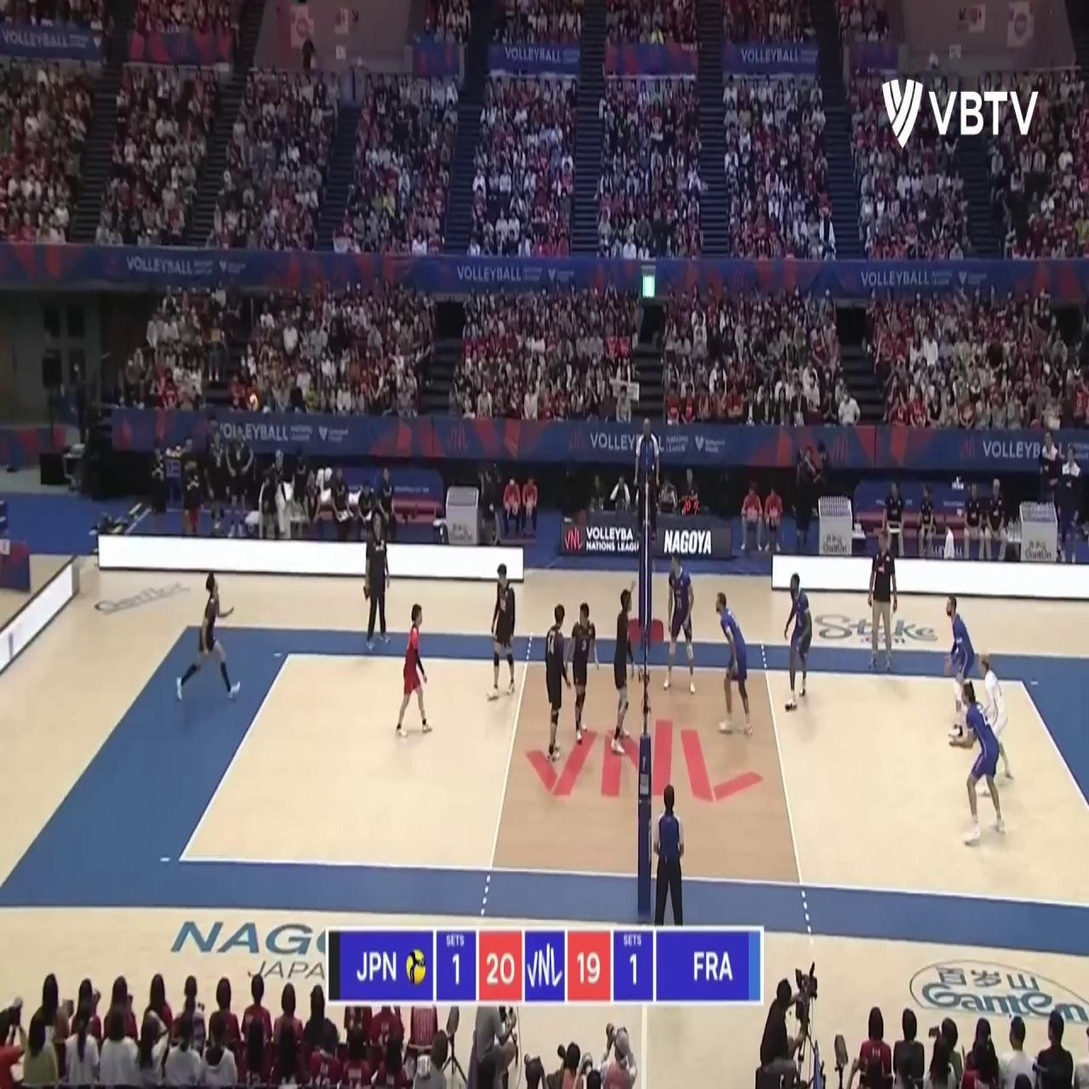ball: (248, 392, 259, 414)
